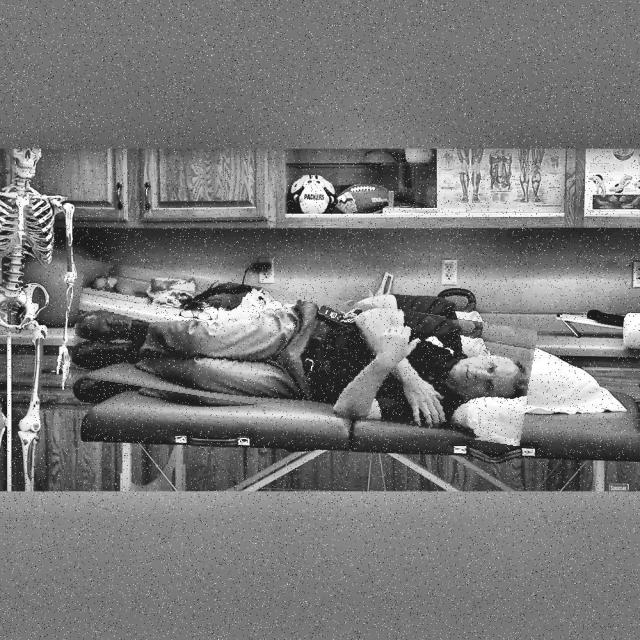Not_Supine: (70, 300, 529, 427)
